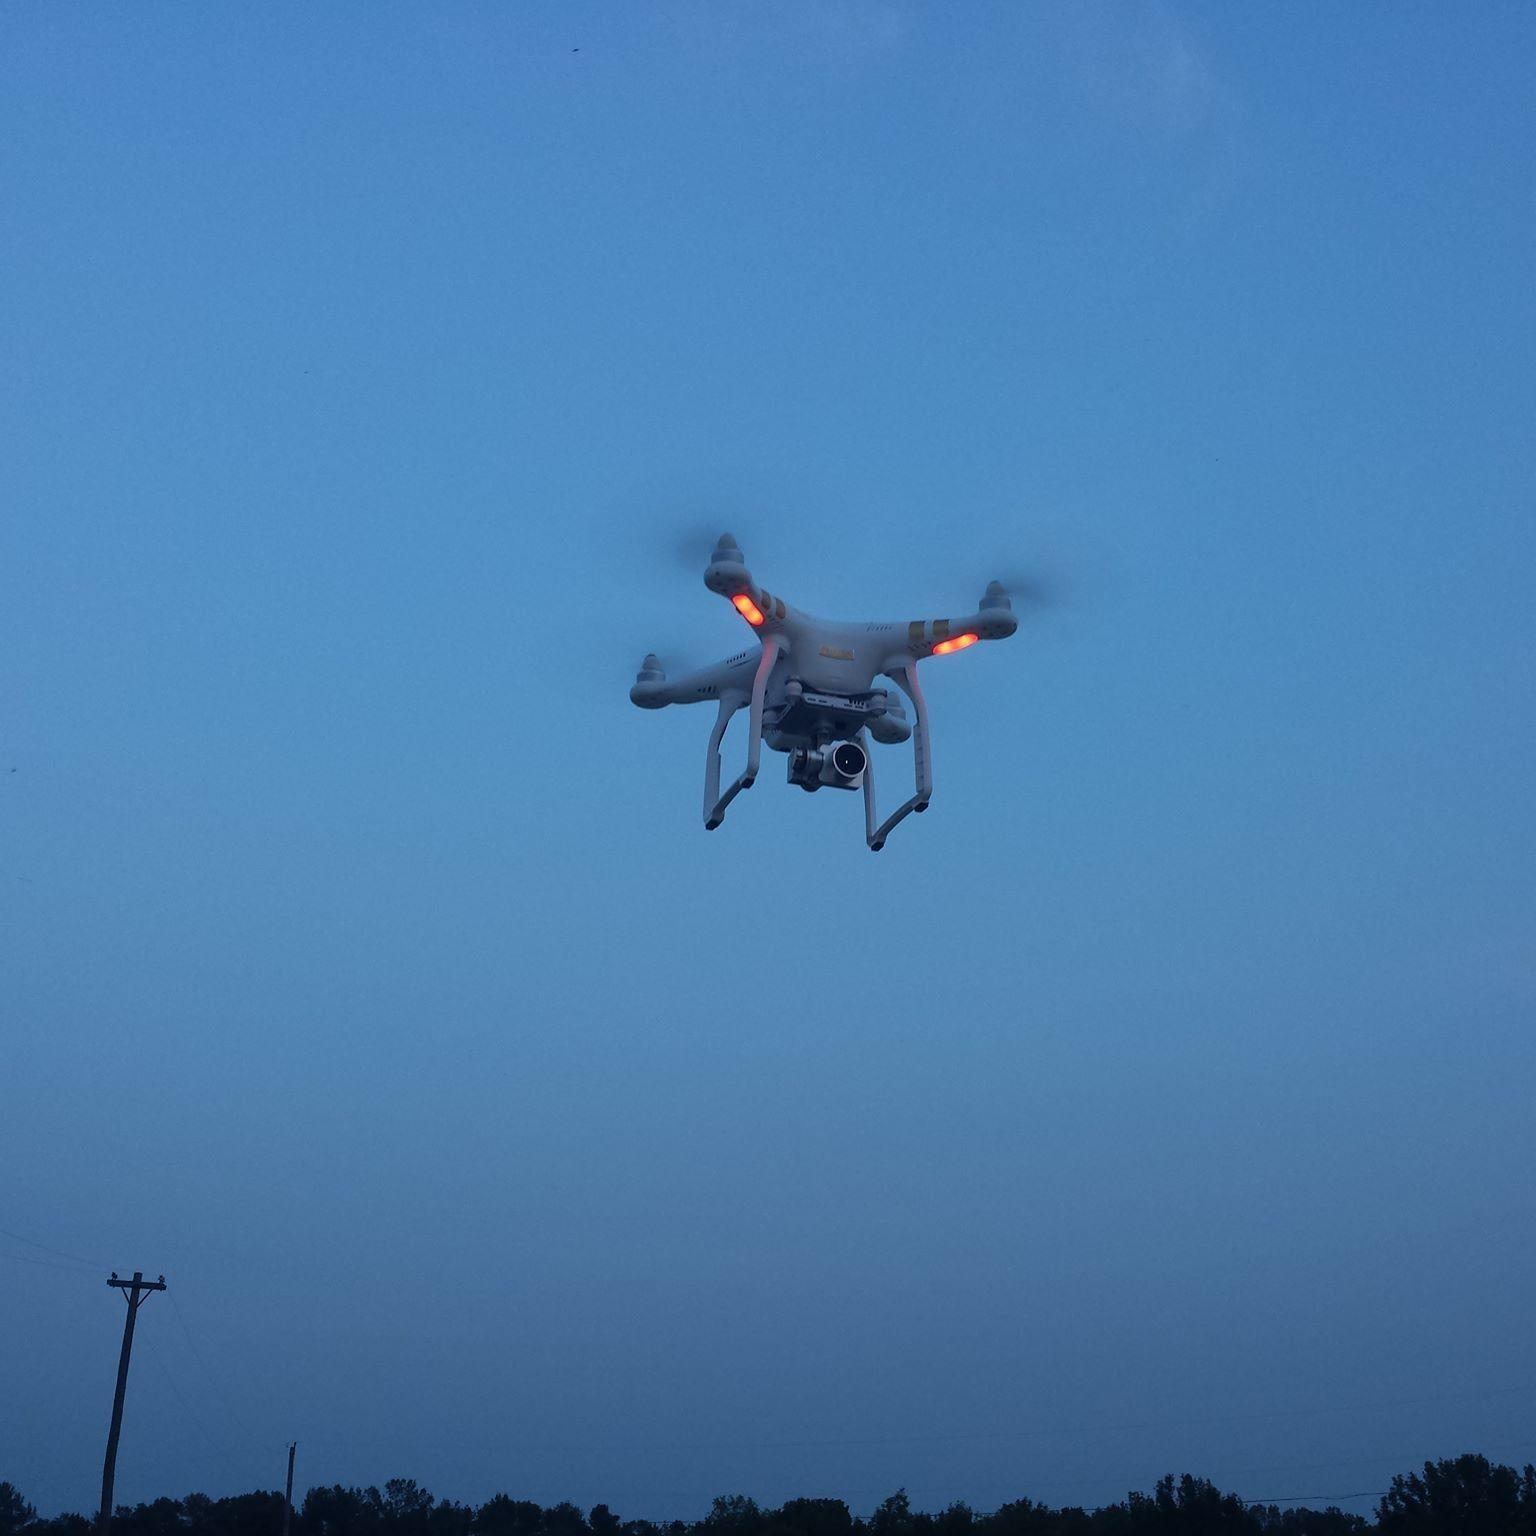drone: (560, 482, 1111, 859)
